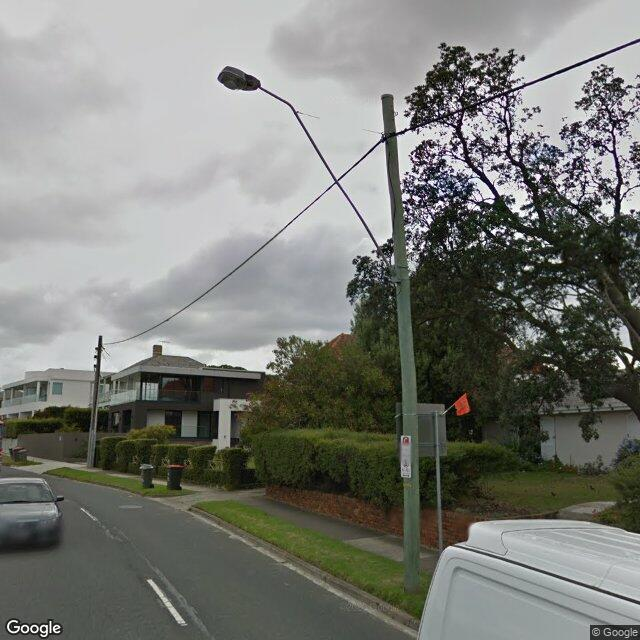streetlight: (216, 65, 398, 285)
timber-pole: (381, 92, 421, 592), (86, 335, 104, 468)
